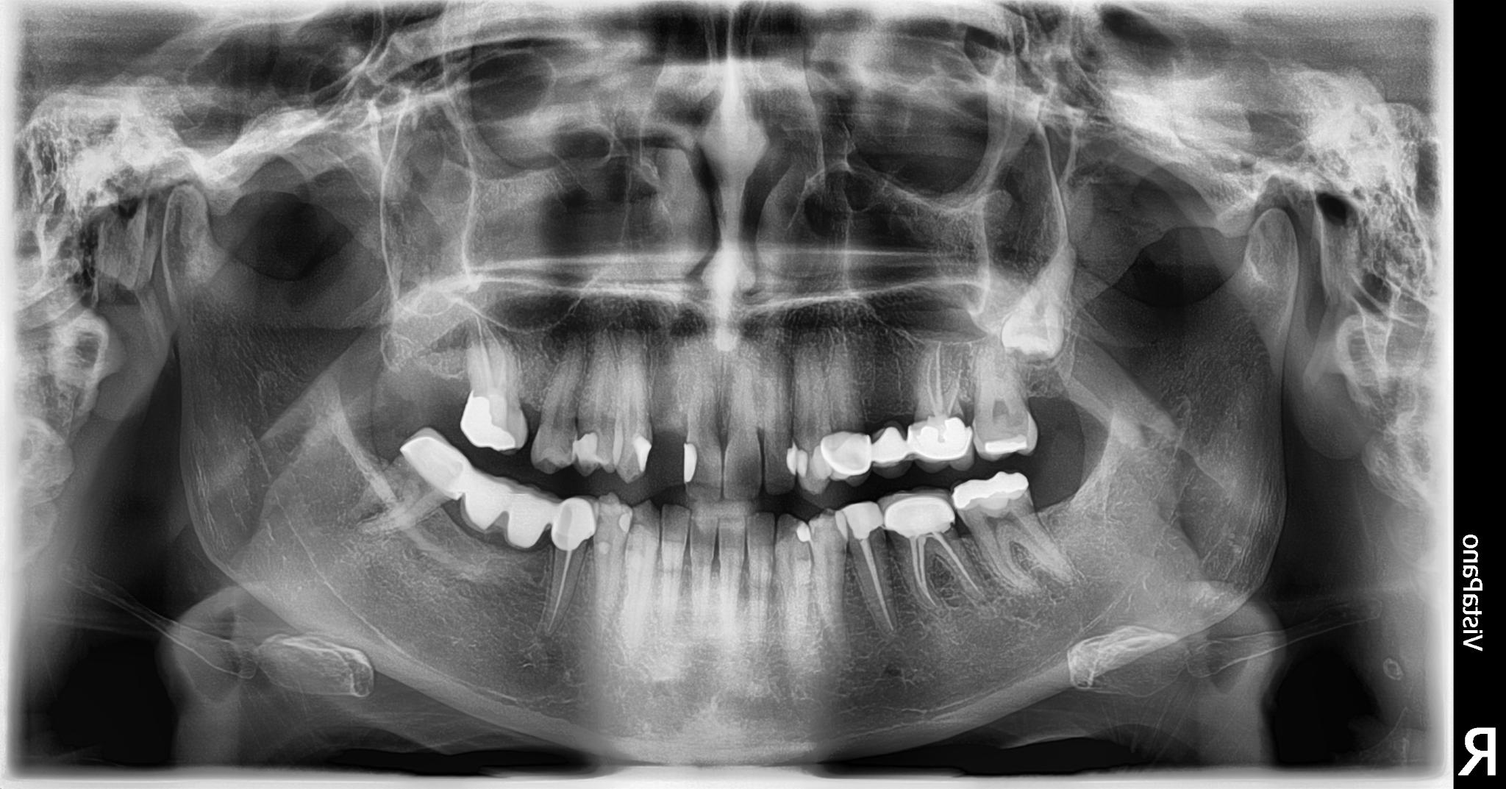Premolars: (527, 229, 1506, 596), (330, 257, 939, 744), (536, 91, 1506, 387), (286, 144, 828, 540)
